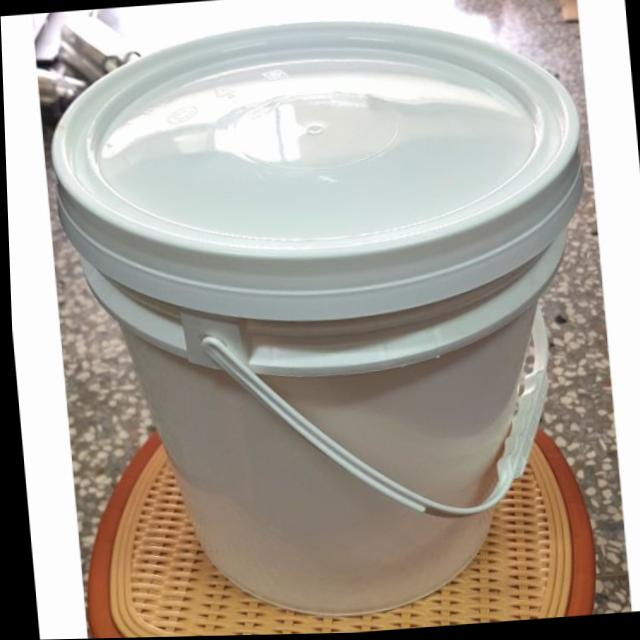plastic: (44, 0, 619, 633)
